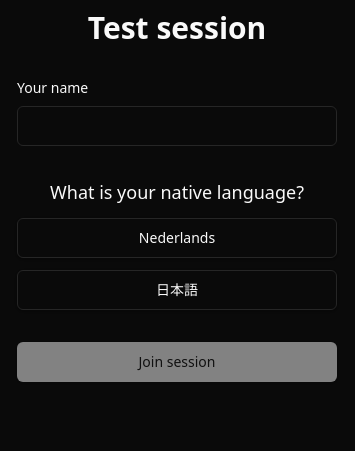
it: ParticipantJoin guards › rejects a native language that matches neither session language
The width and height of the screenshot is (355, 451).
Step 1. Click the button "日本語" → (177, 290), box [17,270,337,310]
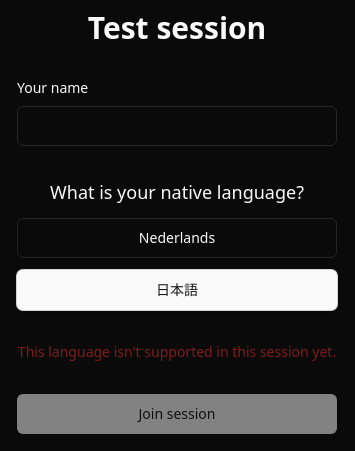
Check: the button "Join session" is disabled, box [17,394,337,434]
Check: the text "This language isn't supported in this session yet." is shown, box [18,342,336,362]
